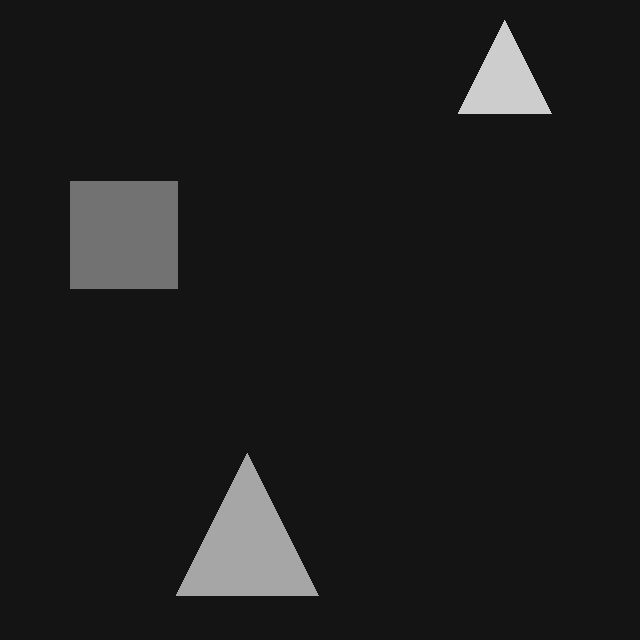square: (70, 181, 177, 288)
triangle: (176, 453, 318, 595), (458, 20, 551, 113)
